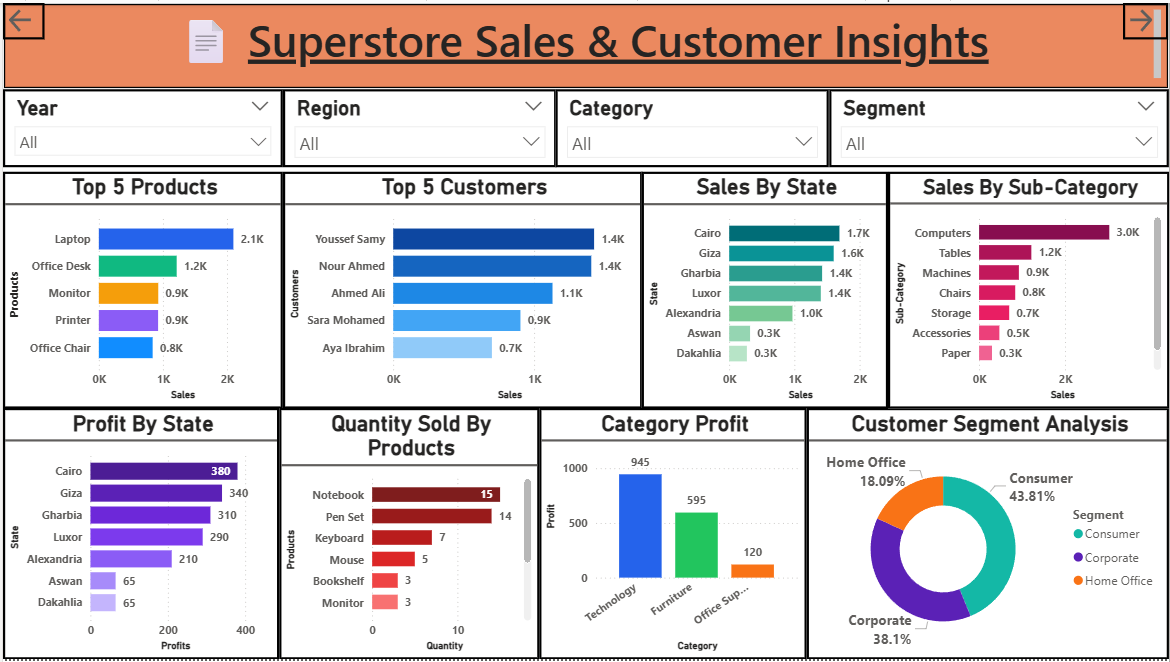

The page's visual inventory and layout, read from the dashboard file:
{"tool":"powerbi","page":{"name":"Page 2","canvas":[1280,720],"ordinal":1},"visuals":[{"type":"textbox","box":[0,0,1280,94.3],"z":0},{"type":"clusteredBarChart","title":"Top 5 Products","fields":{"Y":["Sum(Sheet1.sales_amount)"],"Category":["Sheet1.product_Name"]},"box":[0,185.7,307.1,260],"z":1000},{"type":"clusteredBarChart","title":"Top 5 Customers","fields":{"Category":["Sheet1.customer_name"],"Y":["Sum(Sheet1.sales_amount)"]},"box":[307.1,185.7,394.3,260],"z":2000},{"type":"clusteredBarChart","title":"Sales By State","fields":{"Category":["Sheet1.state"],"Y":["Sum(Sheet1.sales_amount)"]},"box":[701.4,185.7,270,260],"z":3000},{"type":"clusteredBarChart","title":"Profit By State","fields":{"Category":["Sheet1.state"],"Y":["Sum(Sheet1.profit)"]},"box":[0,444.6,303.3,275.8],"z":4000},{"type":"clusteredBarChart","title":"Quantity Sold By Products","fields":{"Category":["Sheet1.product_Name"],"Y":["Sum(Sheet1.quantity)"]},"box":[303.3,444.6,285.4,275.8],"z":5000},{"type":"donutChart","title":"Customer Segment Analysis","fields":{"Y":["Sum(Sheet1.sales_amount)"],"Category":["Sheet1.segment"]},"box":[882.3,444.6,397.9,275.8],"z":6000},{"type":"clusteredColumnChart","title":"Category Profit  ","fields":{"Y":["Sum(Sheet1.profit)"],"Category":["Sheet1.category"]},"box":[588.7,444.6,293.7,275.8],"z":7000},{"type":"clusteredBarChart","title":"Sales By Sub-Category","fields":{"Category":["Sheet1.sub_category"],"Y":["Sum(Sheet1.sales_amount)"]},"box":[971.4,185.7,308.6,260],"z":8000},{"type":"slicer","fields":{"Values":["Sheet1.year"]},"box":[0,94.3,307.1,85.7],"z":9000},{"type":"slicer","fields":{"Values":["Sheet1.region"]},"box":[307.1,94.3,300,85.7],"z":10000},{"type":"slicer","fields":{"Values":["Sheet1.category"]},"box":[607.1,94.3,300,85.7],"z":11000},{"type":"slicer","fields":{"Values":["Sheet1.segment"]},"box":[907.1,94.3,372.9,85.7],"z":12000},{"type":"actionButton","box":[0,0,45.3,39.8],"z":12001},{"type":"actionButton","box":[1229.5,0,49.4,39.8],"z":12002}]}

Visuals, with their boxes in screenshot pixels (x1, y1, x2, y2), scaled from the page's 1280x720 canvas onto the 1170x662 screenshot:
textbox: {"left": 0, "top": 0, "right": 1169, "bottom": 87}
"Top 5 Products" clusteredBarChart: {"left": 0, "top": 171, "right": 281, "bottom": 410}
"Top 5 Customers" clusteredBarChart: {"left": 281, "top": 171, "right": 641, "bottom": 410}
"Sales By State" clusteredBarChart: {"left": 641, "top": 171, "right": 888, "bottom": 410}
"Profit By State" clusteredBarChart: {"left": 0, "top": 409, "right": 277, "bottom": 661}
"Quantity Sold By Products" clusteredBarChart: {"left": 277, "top": 409, "right": 538, "bottom": 661}
"Customer Segment Analysis" donutChart: {"left": 806, "top": 409, "right": 1169, "bottom": 661}
"Category Profit  " clusteredColumnChart: {"left": 538, "top": 409, "right": 807, "bottom": 661}
"Sales By Sub-Category" clusteredBarChart: {"left": 888, "top": 171, "right": 1169, "bottom": 410}
slicer - Sheet1.year: {"left": 0, "top": 87, "right": 281, "bottom": 166}
slicer - Sheet1.region: {"left": 281, "top": 87, "right": 555, "bottom": 166}
slicer - Sheet1.category: {"left": 555, "top": 87, "right": 829, "bottom": 166}
slicer - Sheet1.segment: {"left": 829, "top": 87, "right": 1169, "bottom": 166}
actionButton: {"left": 0, "top": 0, "right": 41, "bottom": 37}
actionButton: {"left": 1124, "top": 0, "right": 1169, "bottom": 37}
